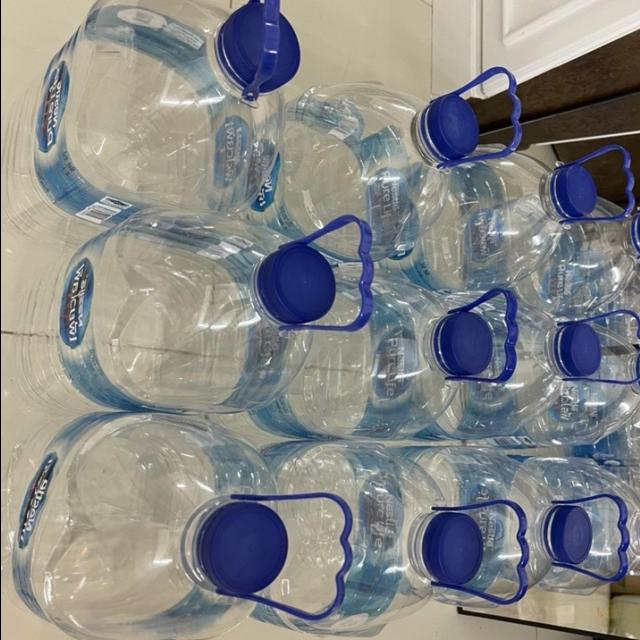plastik: (0, 414, 351, 640), (2, 0, 299, 242), (21, 211, 373, 413), (242, 67, 521, 260), (252, 441, 528, 634), (249, 275, 515, 439), (380, 144, 633, 292), (399, 446, 626, 608), (416, 290, 600, 439), (485, 326, 640, 449), (513, 211, 640, 316)
